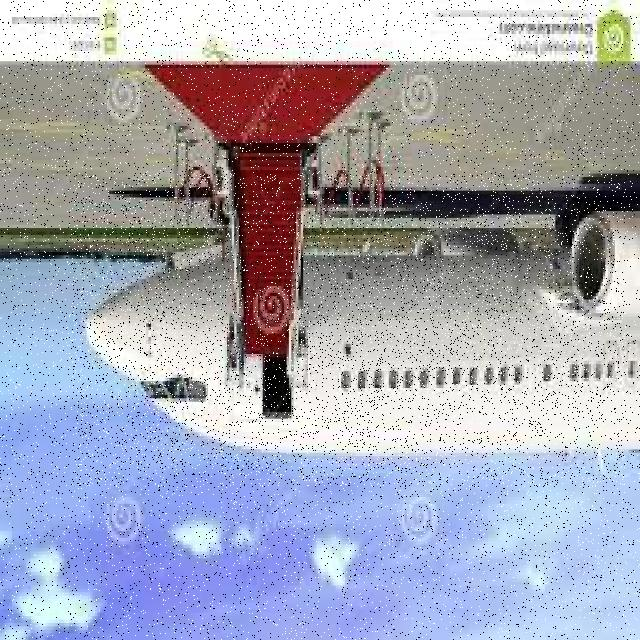MIL_MBT: (72, 174, 626, 486)
